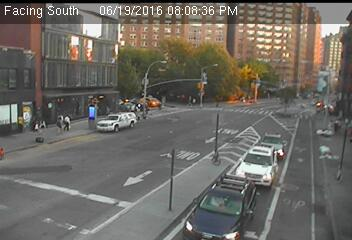neg: (138, 100, 150, 116), (38, 112, 49, 127), (186, 95, 195, 107)
pos: (60, 111, 74, 130), (54, 116, 64, 129)
